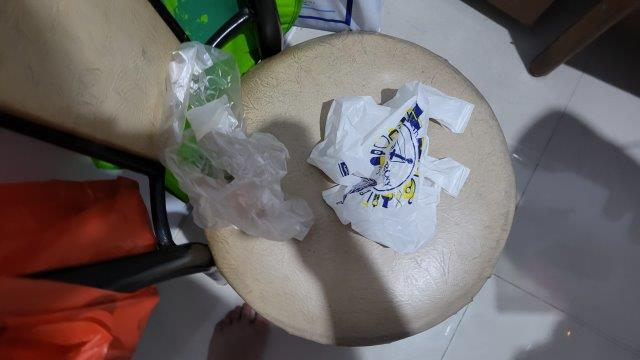plastik: (157, 40, 305, 248), (309, 80, 473, 256)
